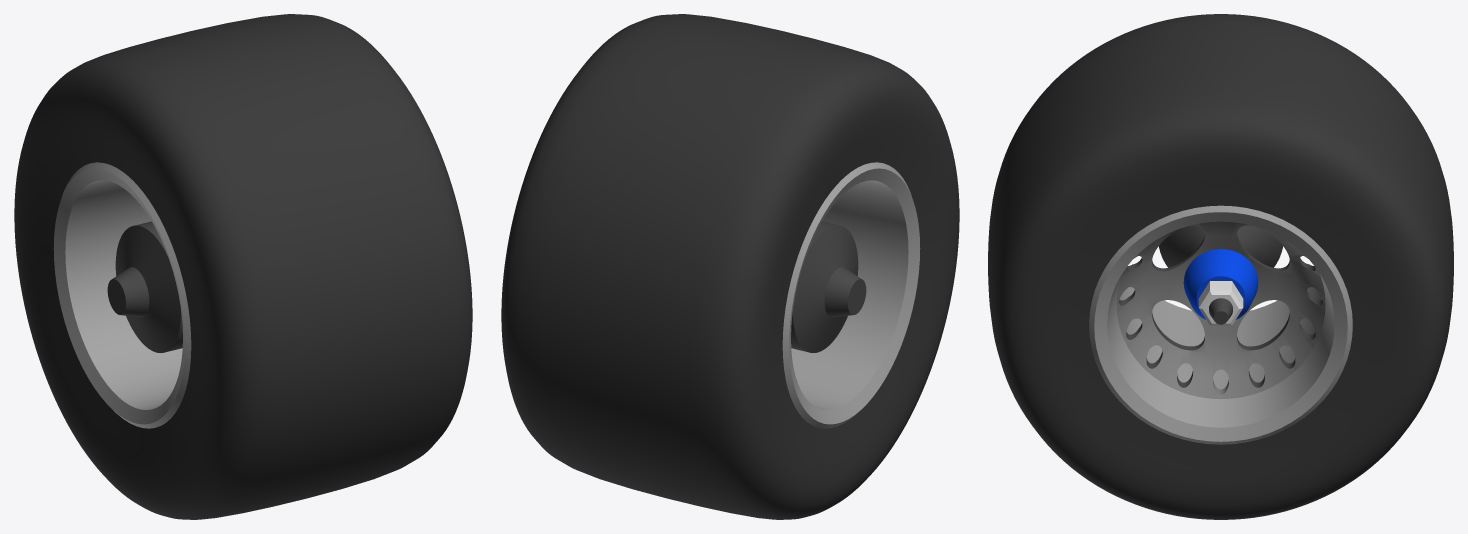
File: gydra.fbx
The picture shows the model from 3 angles, left to right: view 1: azimuth 30°, elevation 25°; view 2: azimuth 150°, elevation 25°; view 3: azimuth 270°, elevation 25°; orthographic projection. The views are drawn at different scales.
Visible parts, largest first — view 1: Cylinder.002; view 2: Cylinder.002; view 3: Cylinder.002.
Boxes of the visible parts, left/top/right/bottom form: Cylinder.002: left=14, top=14, right=472, bottom=519; Cylinder.002: left=501, top=14, right=959, bottom=519; Cylinder.002: left=988, top=14, right=1453, bottom=519.
Bounding box in the file's own units: 209 × 346 × 346.
